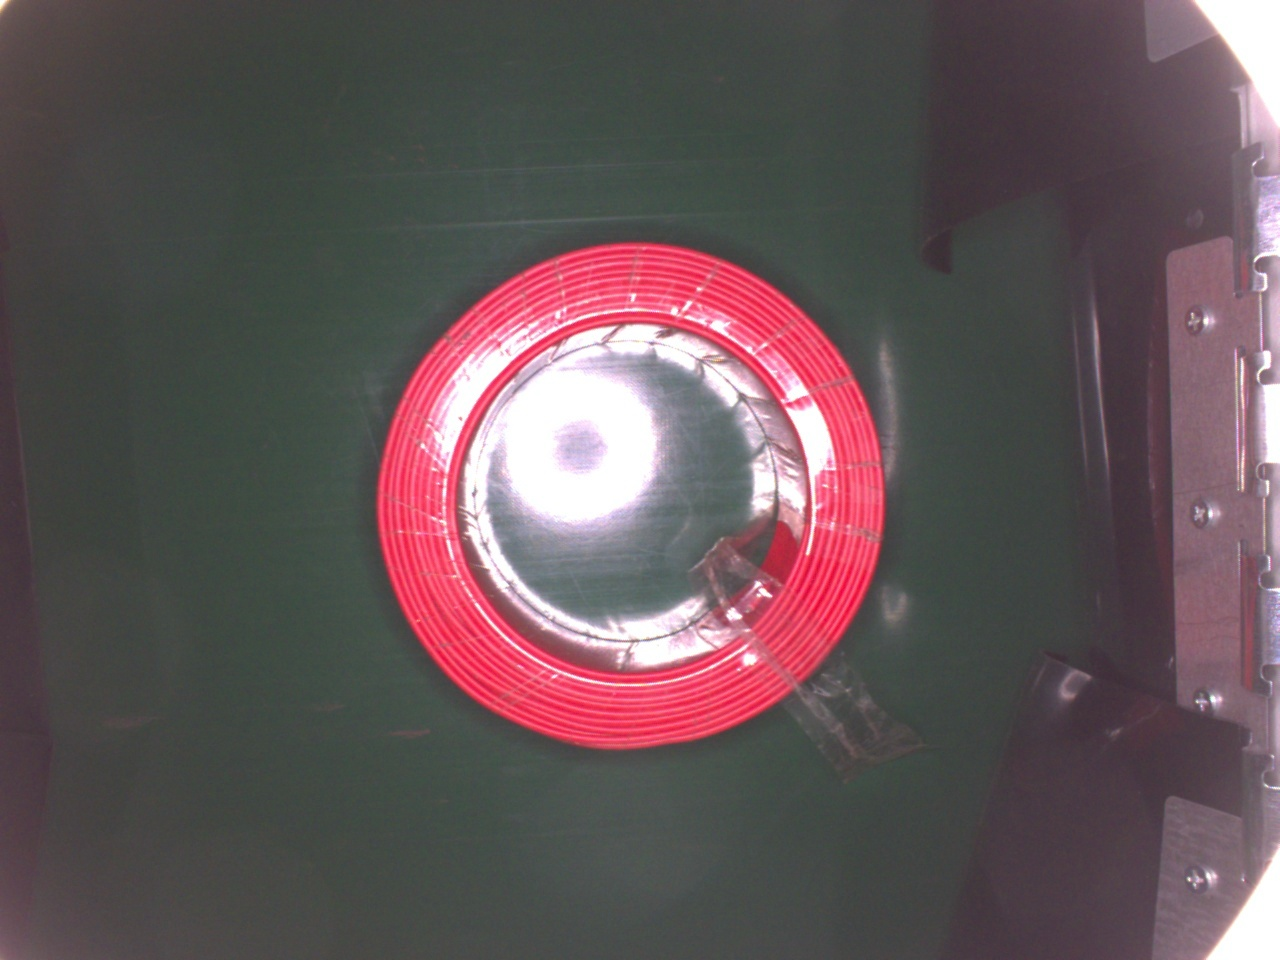red: (366, 240, 888, 757)
